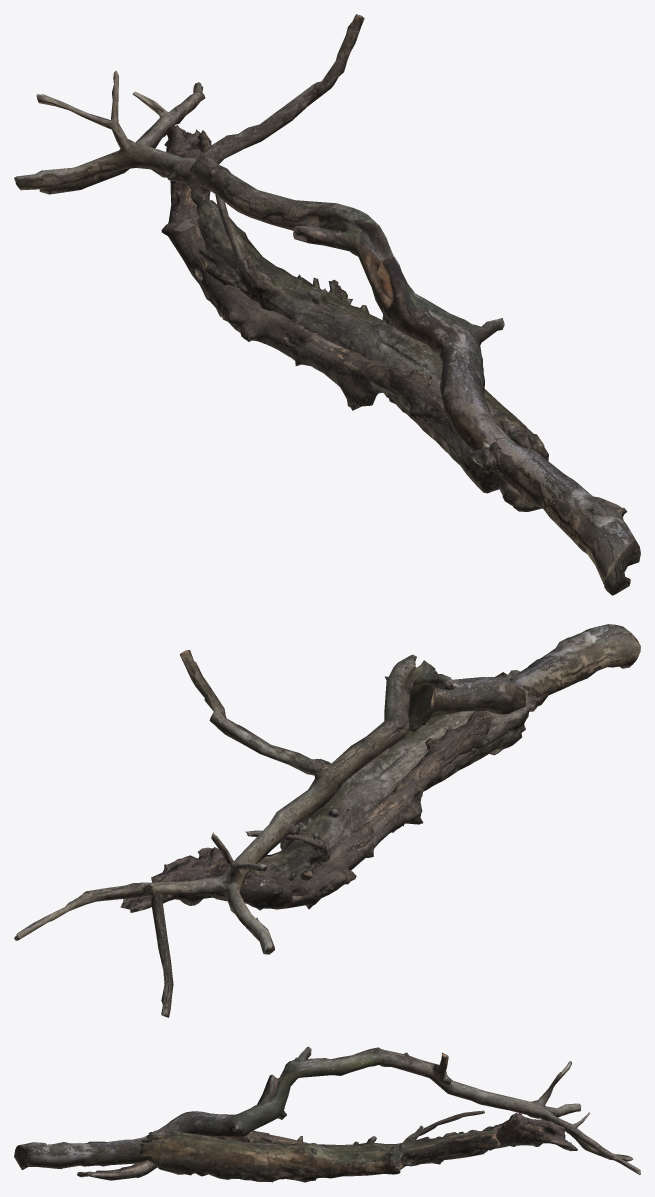
The model's file is driftwood.glb.
3 views of the same model, one above another, from view 1: azimuth 30°, elevation 25°; view 2: azimuth 150°, elevation 25°; view 3: azimuth 270°, elevation 25° (orthographic). The views are drawn at different scales.
Parts seen in each view (by area): view 1: driftwood_a, driftwood_c, driftwood_b; view 2: driftwood_a, driftwood_b, driftwood_c; view 3: driftwood_a, driftwood_c, driftwood_b.
Part boxes in pixels (x1,y1,x2,y2): driftwood_a: (14,14,640,595); driftwood_c: (191,188,548,493); driftwood_b: (161,125,627,520); driftwood_a: (14,624,640,1017); driftwood_b: (120,670,525,912); driftwood_c: (245,672,539,880); driftwood_a: (14,1046,640,1174); driftwood_c: (140,1110,503,1182); driftwood_b: (77,1112,577,1180).
Bounding box in the file's own units: 0.3231 × 0.341 × 1.3.
Materials: 1 (1 with a texture image).
